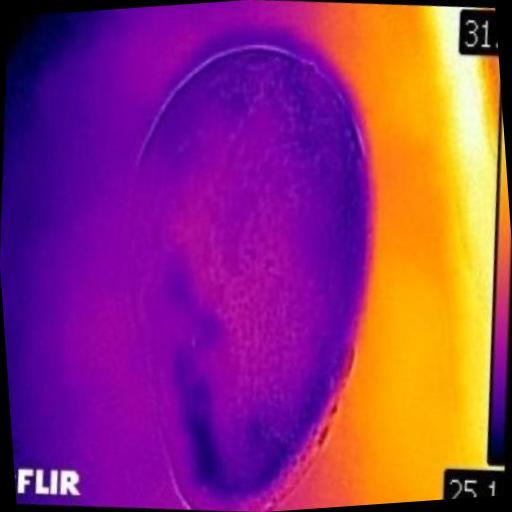alphanso: (136, 46, 369, 509)
